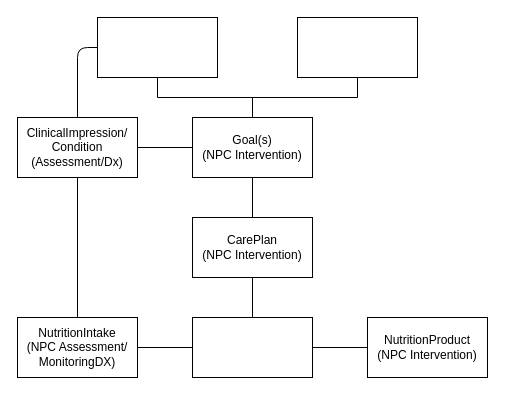
Image size: 505x395. Some labels were removed from this diagram. The shapes that lost their labels are listed below. From the top down, each one's centre as x and y in pixels, then its label:
the point at 157,47: Practitioner
the point at 357,47: Patient/Group
the point at 252,347: NutritionOrder (NPC Intervention)
